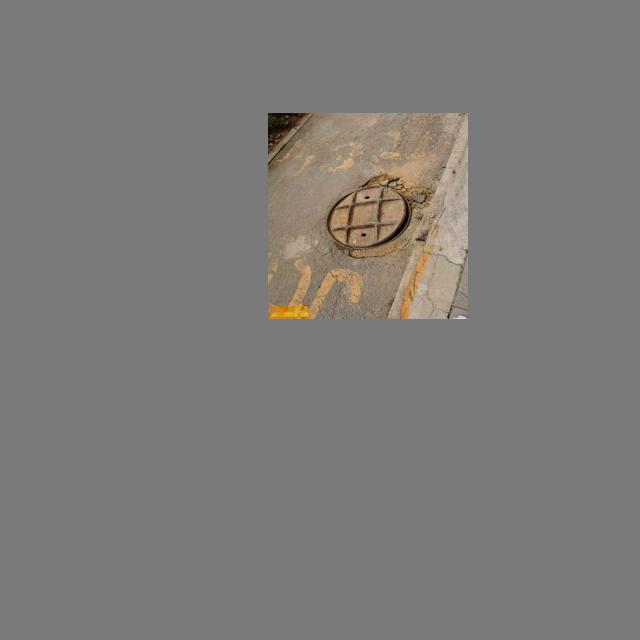circle: (318, 166, 446, 268)
